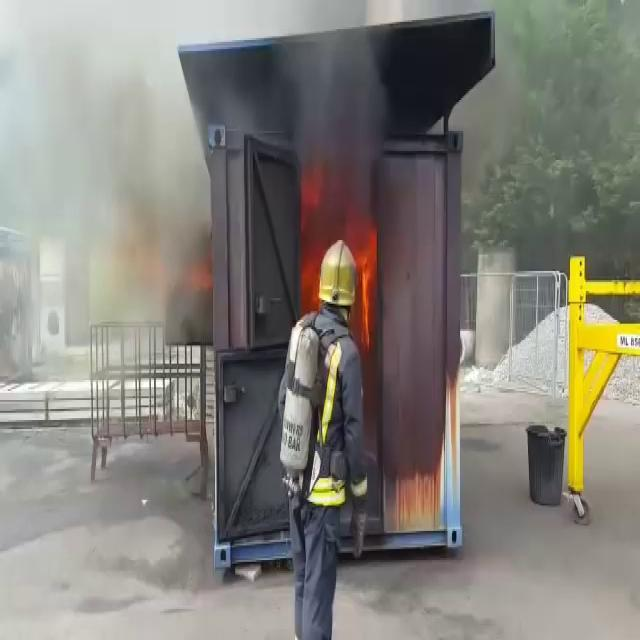Fire: (304, 172, 362, 234), (360, 257, 378, 325)
Smoke: (257, 0, 406, 137)
